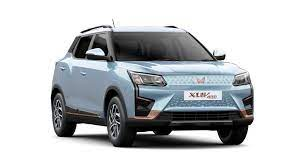XUV 400: (48, 19, 255, 147)
